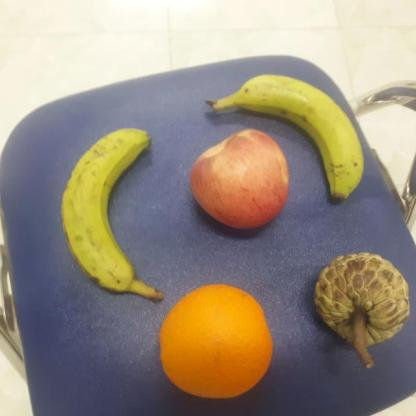annona: (311, 249, 412, 348)
apple: (188, 125, 289, 233)
banana: (59, 119, 159, 292), (237, 73, 367, 205)
orange: (158, 282, 271, 400)
